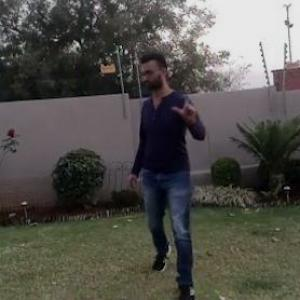land_hand: (169, 83, 201, 120)
